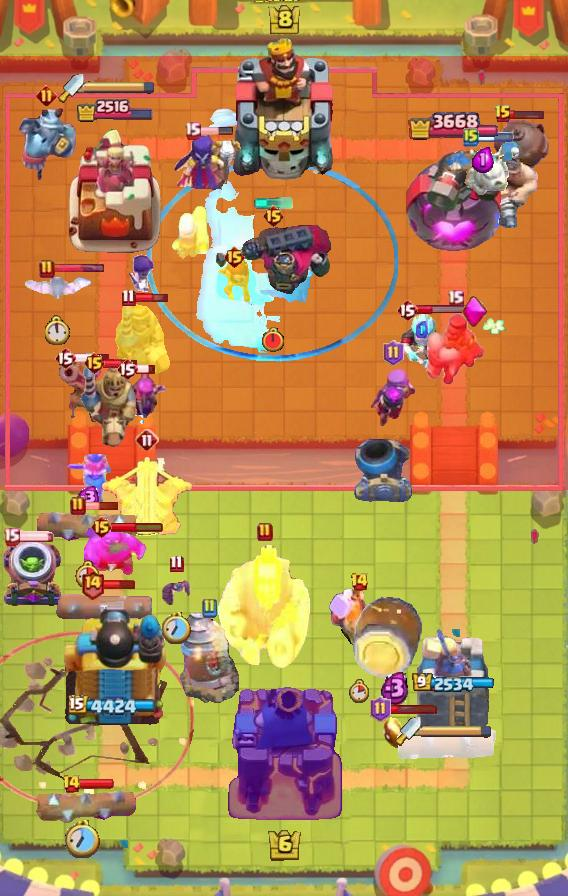archer-evolution: (121, 365, 167, 425)
bar: (111, 521, 164, 533), (53, 263, 105, 274), (416, 304, 467, 315), (388, 704, 438, 715), (17, 530, 55, 542), (103, 357, 138, 370), (134, 291, 169, 304), (74, 352, 111, 364), (79, 778, 115, 790), (510, 109, 545, 120), (476, 132, 514, 142), (102, 579, 136, 590), (198, 126, 234, 136), (84, 501, 119, 511), (136, 363, 156, 375)
bar-level: (80, 569, 105, 600), (135, 428, 159, 452), (90, 515, 113, 539), (83, 351, 106, 375), (223, 245, 246, 269), (262, 204, 285, 228), (370, 696, 391, 722), (383, 340, 404, 366), (116, 357, 138, 381), (54, 346, 76, 370), (396, 298, 418, 322), (36, 85, 57, 106), (62, 774, 81, 794), (350, 572, 369, 592), (494, 104, 512, 124), (3, 527, 20, 546), (447, 289, 464, 308), (184, 121, 201, 140), (201, 598, 217, 618), (257, 522, 273, 542), (70, 496, 86, 516), (39, 259, 55, 279), (463, 127, 479, 147), (169, 554, 184, 573), (121, 288, 136, 307)
bat: (160, 576, 192, 606)
bat-evolution: (23, 273, 93, 303)
bomber: (215, 259, 253, 305)
cannoneer-tower: (58, 595, 170, 731), (402, 136, 504, 256)
clock: (65, 820, 100, 858), (162, 612, 191, 644), (45, 315, 71, 345), (75, 560, 99, 588), (261, 327, 285, 353), (349, 679, 369, 703)
dagger-duchess-tower: (64, 124, 164, 256), (414, 623, 492, 731)
dagger-duchess-tower-bar: (421, 724, 493, 738), (84, 80, 156, 94)
elixir: (380, 670, 410, 706), (472, 146, 494, 173), (74, 486, 100, 508), (416, 321, 428, 338)
elixir-golem-mid: (84, 527, 148, 577)
evolution-symbol: (462, 295, 490, 329)
fire-spirit: (382, 714, 408, 750)
firecracker: (169, 203, 211, 261)
ice-wizard: (398, 308, 446, 372)
king-tower: (223, 680, 345, 826), (228, 35, 340, 181)
lumberjack: (328, 589, 390, 655)
mega-minion: (16, 104, 76, 182)
mortar: (354, 438, 414, 502)
mortar-evolution: (0, 539, 64, 609)
mother-witch: (367, 366, 419, 428)
musketeer: (59, 354, 101, 424)
ram-rider: (425, 312, 485, 386)
skeleton-evolution: (126, 254, 158, 294)
the-log: (34, 786, 137, 824), (36, 507, 139, 545), (56, 590, 164, 626), (395, 729, 499, 763)
tower-bar: (408, 109, 498, 144), (69, 695, 160, 718), (75, 97, 154, 123), (412, 673, 495, 694)
valkyrie: (65, 452, 113, 506)
witch: (172, 135, 242, 195)
